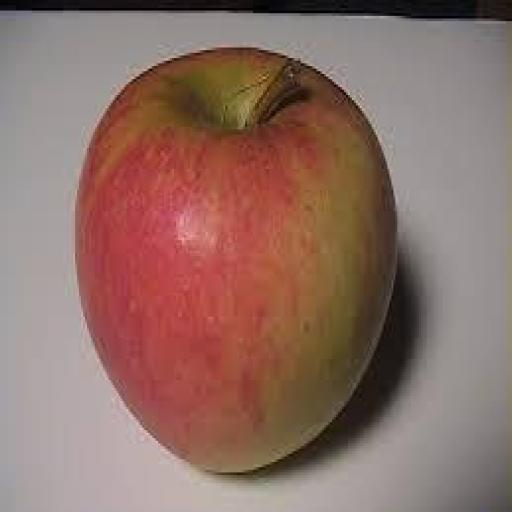apple: (76, 48, 397, 472)
